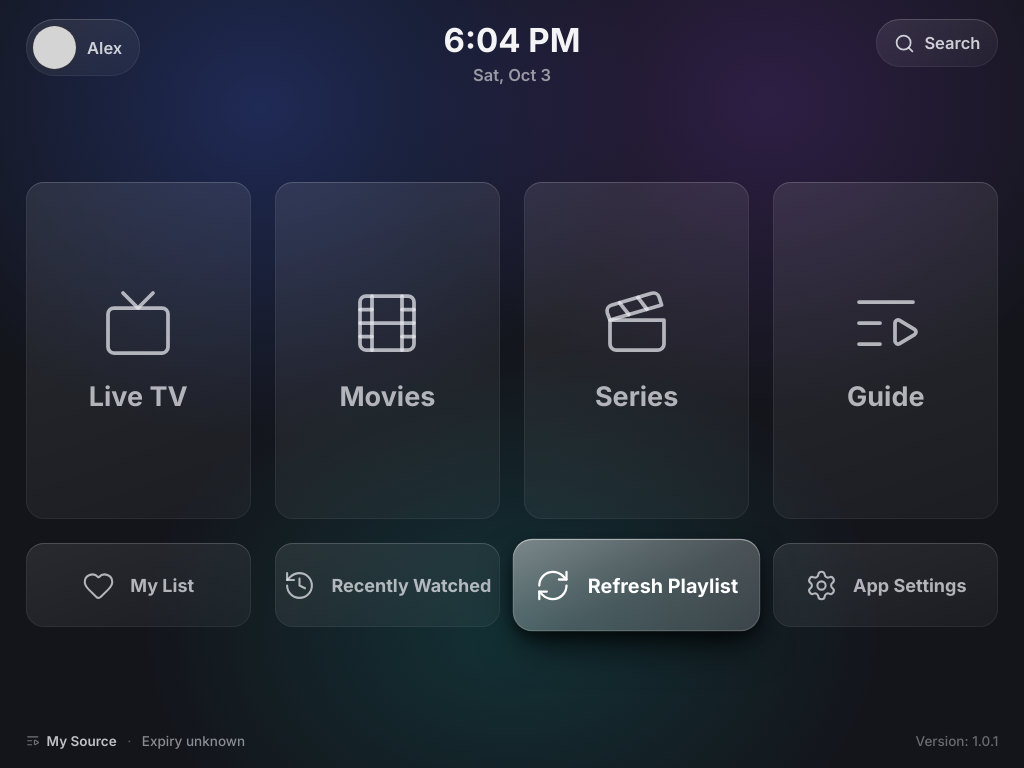
it: HomeScreen sync status › after a failed Refresh, says why and how to retry — without taking focus
Click the button "Refresh Playlist" at (637, 585), box [513,539,760,632]
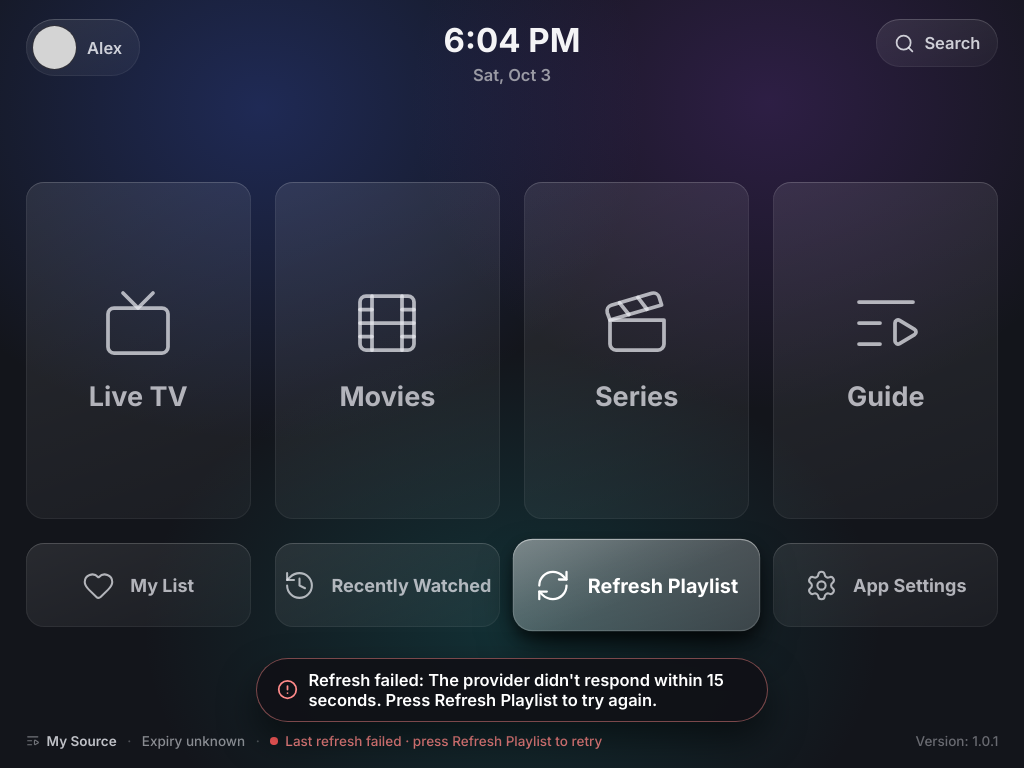
Check: the 1st message shows "Refresh failed: The provider didn't respond within 15 seconds. Press Refresh Playlist to try again.", box [308,670,724,710]
Check: the text "Last refresh failed · press Refresh Playlist to retry" is shown, box [270,733,602,749]
